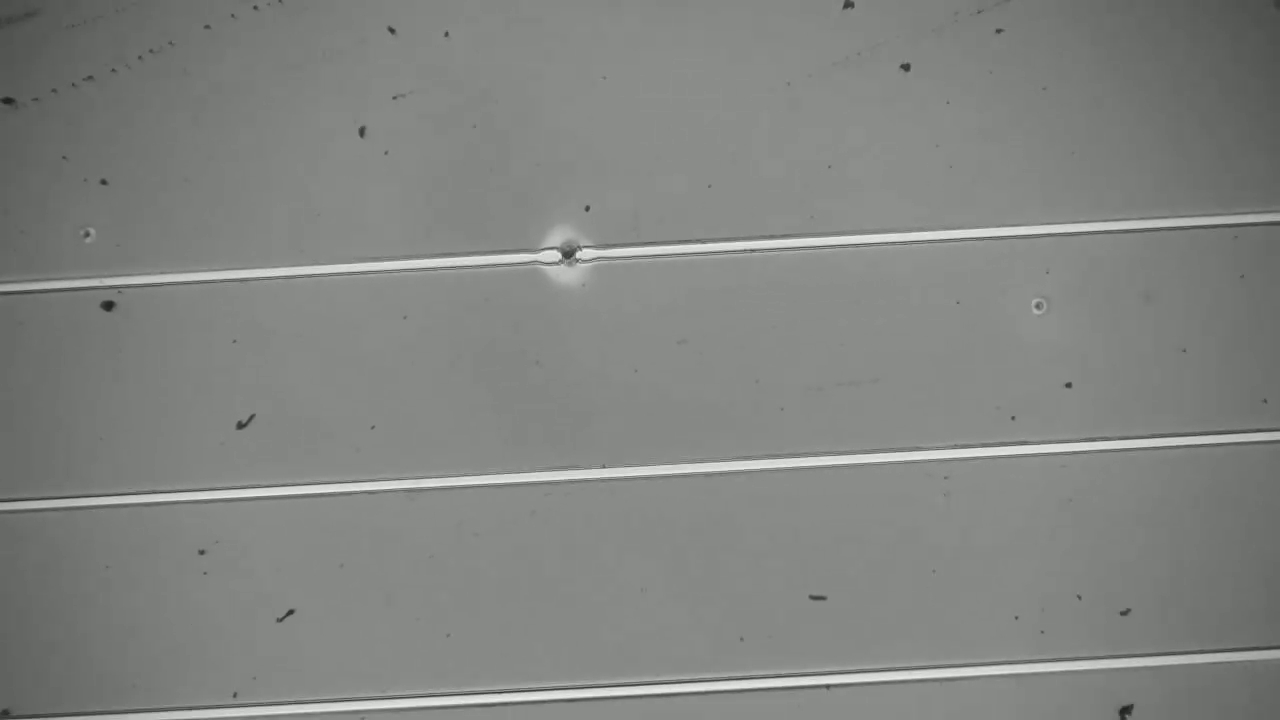stains_enbedded: (547, 229, 593, 276)
